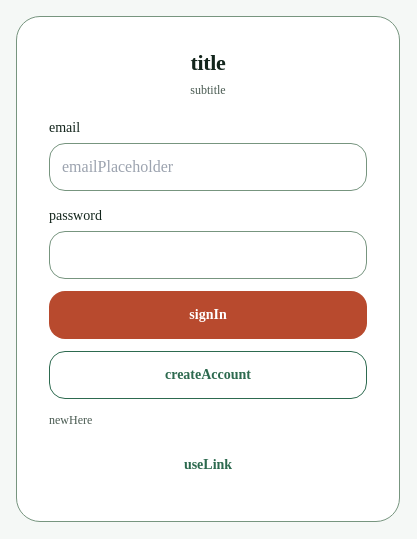
Scenario: citizen sign-in by email link is email only: no phone field, no SMS
What coordinates should you click on to do the following:
click the button "useLink"
I would click on:
 (208, 465)
Its box is [49,441,367,489].
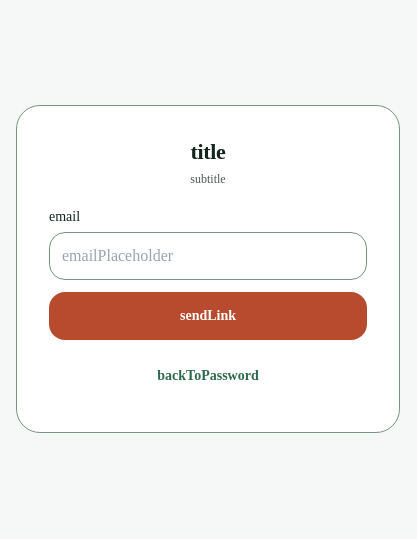
Expected: the field labelled "email" is shown, [49,232,367,280]
